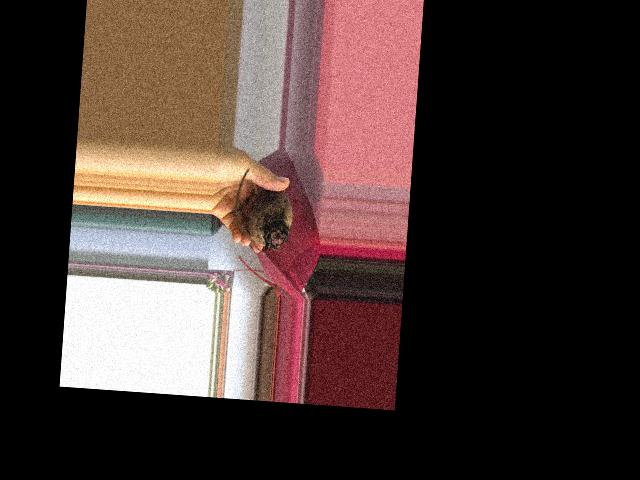beet: (232, 168, 295, 257)
